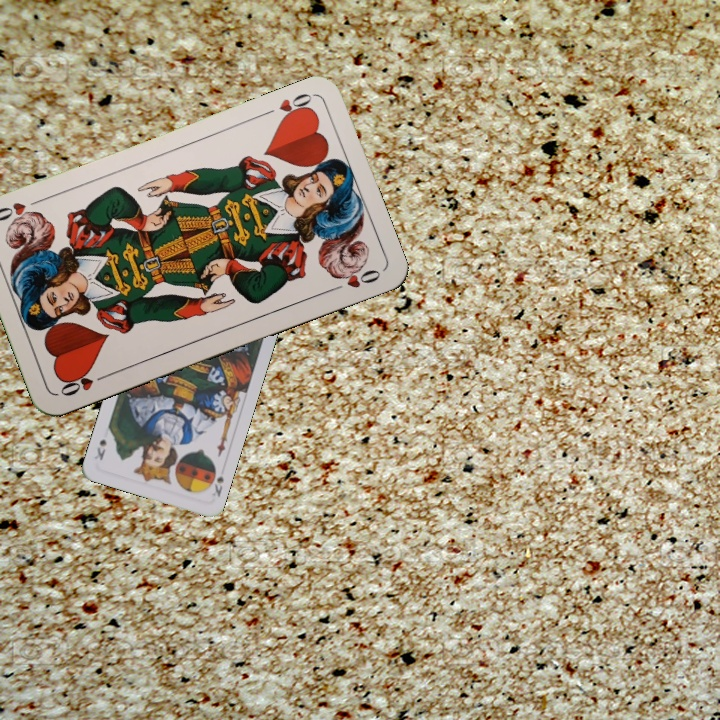HO: (259, 89, 316, 125), (56, 367, 112, 399)
SK: (208, 471, 227, 500)
